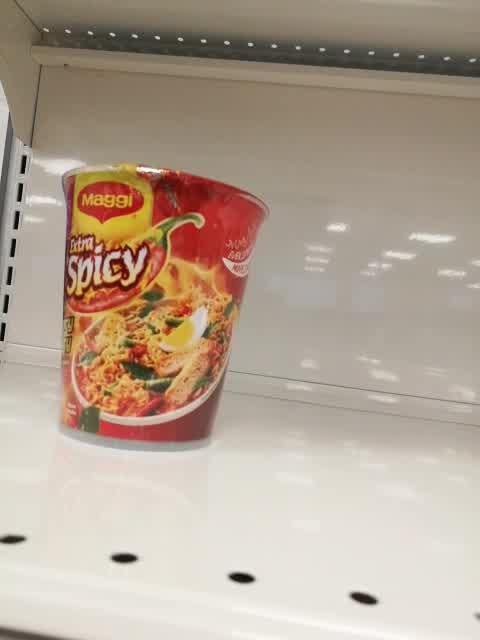maggi: (57, 163, 271, 456)
